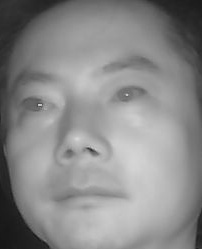eye: (107, 82, 150, 106), (19, 92, 58, 116)
mouth: (52, 177, 129, 216)
